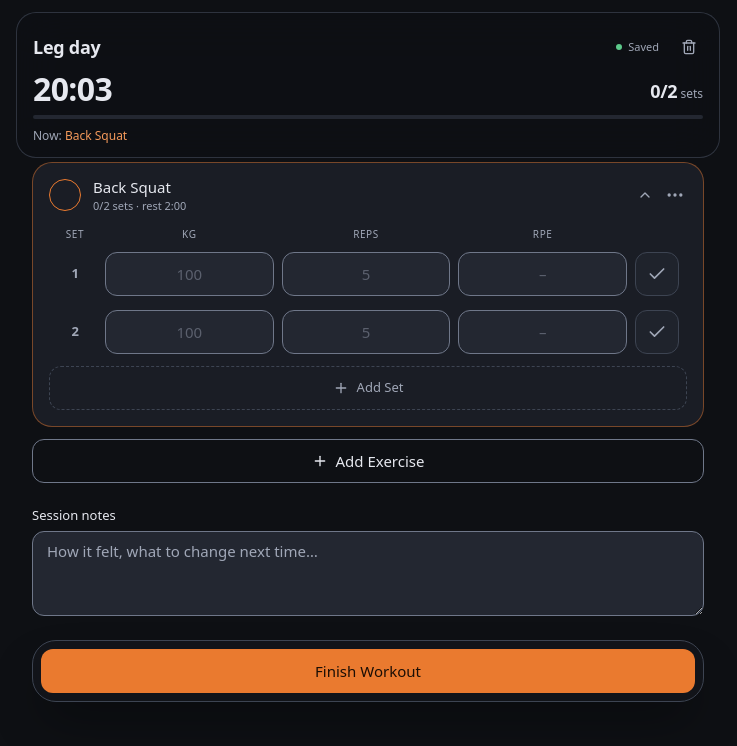
Scenario: SessionPage › shows a 400 from the server on the field and keeps the input
The width and height of the screenshot is (737, 746).
What coordinates should you click on to do the following:
click the button named "Complete Back Squat set 1"
I would click on:
 (657, 274)
Its box is [635, 252, 679, 296].
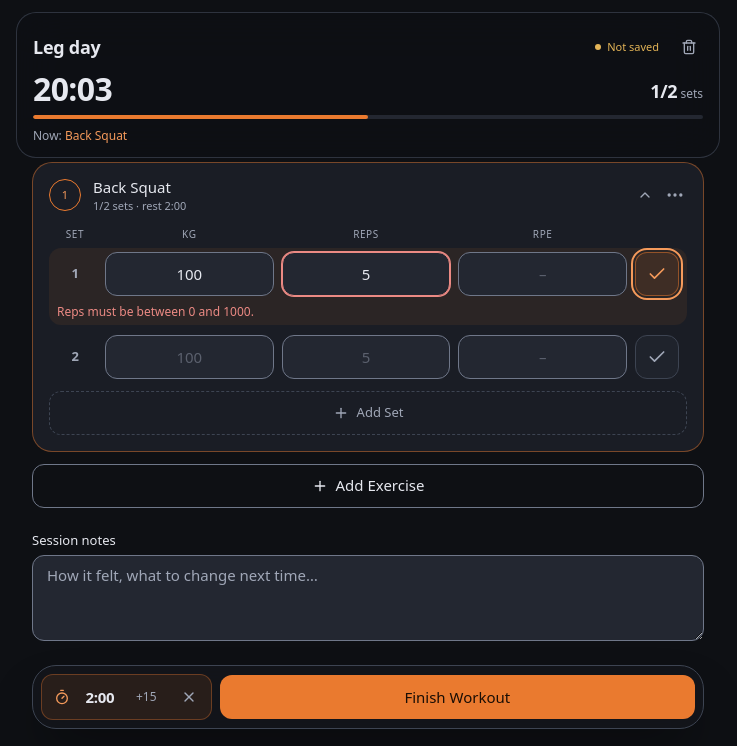
Expected: the text "Reps must be between 0 and 1000." is shown, [57, 303, 254, 320]
Expected: the field named "Back Squat set 1 Reps" holds "5", [282, 252, 450, 296]
